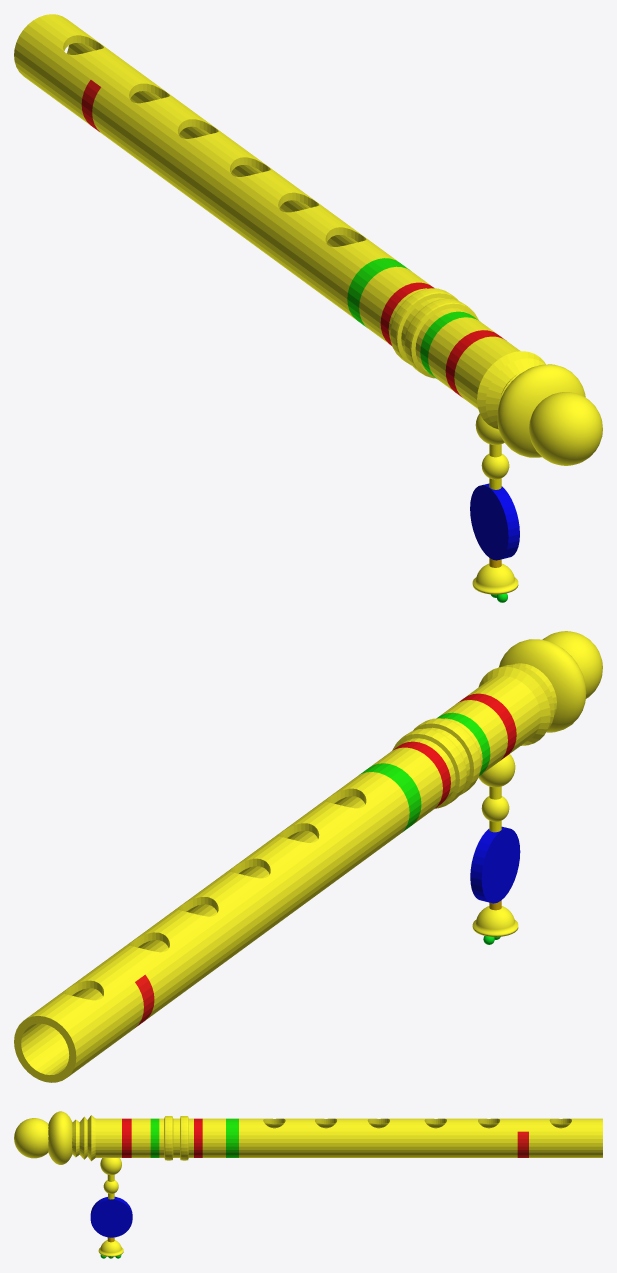
Rendered from Flute blend.gltf.
3 views of the same model, one above another, from view 1: azimuth 30°, elevation 25°; view 2: azimuth 150°, elevation 25°; view 3: azimuth 270°, elevation 25° (orthographic). The views are drawn at different scales.
Visible parts, largest first — view 1: Sphere.003, Circle, Cylinder.003, Cylinder.002; view 2: Sphere.003, Circle, Cylinder.003, Cylinder.002; view 3: Sphere.003, Circle, Cylinder.003, Cylinder.002.
Boxes of the visible parts, bbox=[...] form: Sphere.003: bbox=[14, 14, 602, 594]; Circle: bbox=[470, 483, 519, 560]; Cylinder.003: bbox=[347, 258, 478, 378]; Cylinder.002: bbox=[380, 282, 506, 397]; Sphere.003: bbox=[14, 631, 602, 1082]; Circle: bbox=[470, 826, 520, 903]; Cylinder.003: bbox=[358, 712, 490, 832]; Cylinder.002: bbox=[392, 693, 516, 808]; Sphere.003: bbox=[14, 1111, 602, 1256]; Circle: bbox=[90, 1196, 132, 1237]; Cylinder.003: bbox=[150, 1118, 238, 1157]; Cylinder.002: bbox=[122, 1118, 202, 1157].
Size of the model in its own units: 2 by 5.93 by 21.91.
